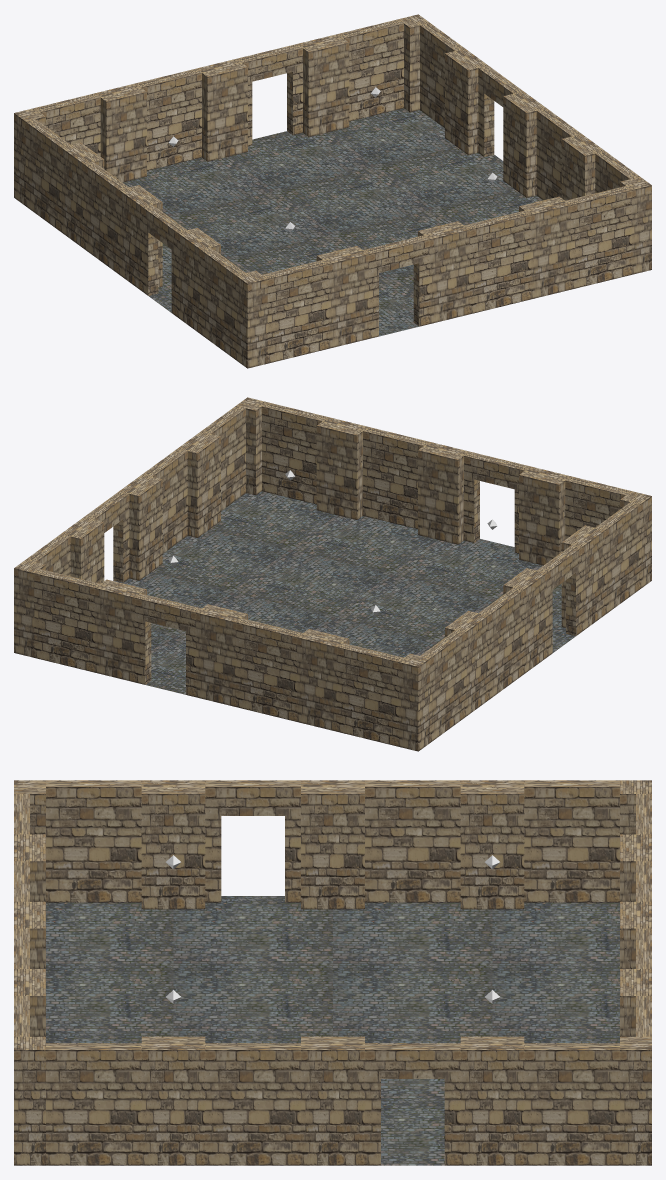
Rendered from 1_4wayMixer.fbx.
The picture shows the model from 3 angles, top to bottom: view 1: azimuth 30°, elevation 25°; view 2: azimuth 150°, elevation 25°; view 3: azimuth 270°, elevation 25°; orthographic projection. The views are drawn at different scales.
Visible parts, largest first — view 1: Cube_2, Plane; view 2: Cube_2, Plane; view 3: Cube_2, Plane.
Boxes of the visible parts, <box> form: Cube_2: <box>14,14,651,368</box>; Plane: <box>123,108,542,336</box>; Cube_2: <box>14,397,651,751</box>; Plane: <box>113,491,575,694</box>; Cube_2: <box>14,780,651,1165</box>; Plane: <box>46,896,619,1165</box>.
Size of the model in its own units: 40 by 8 by 40.
Materials: 3 (3 with a texture image).
